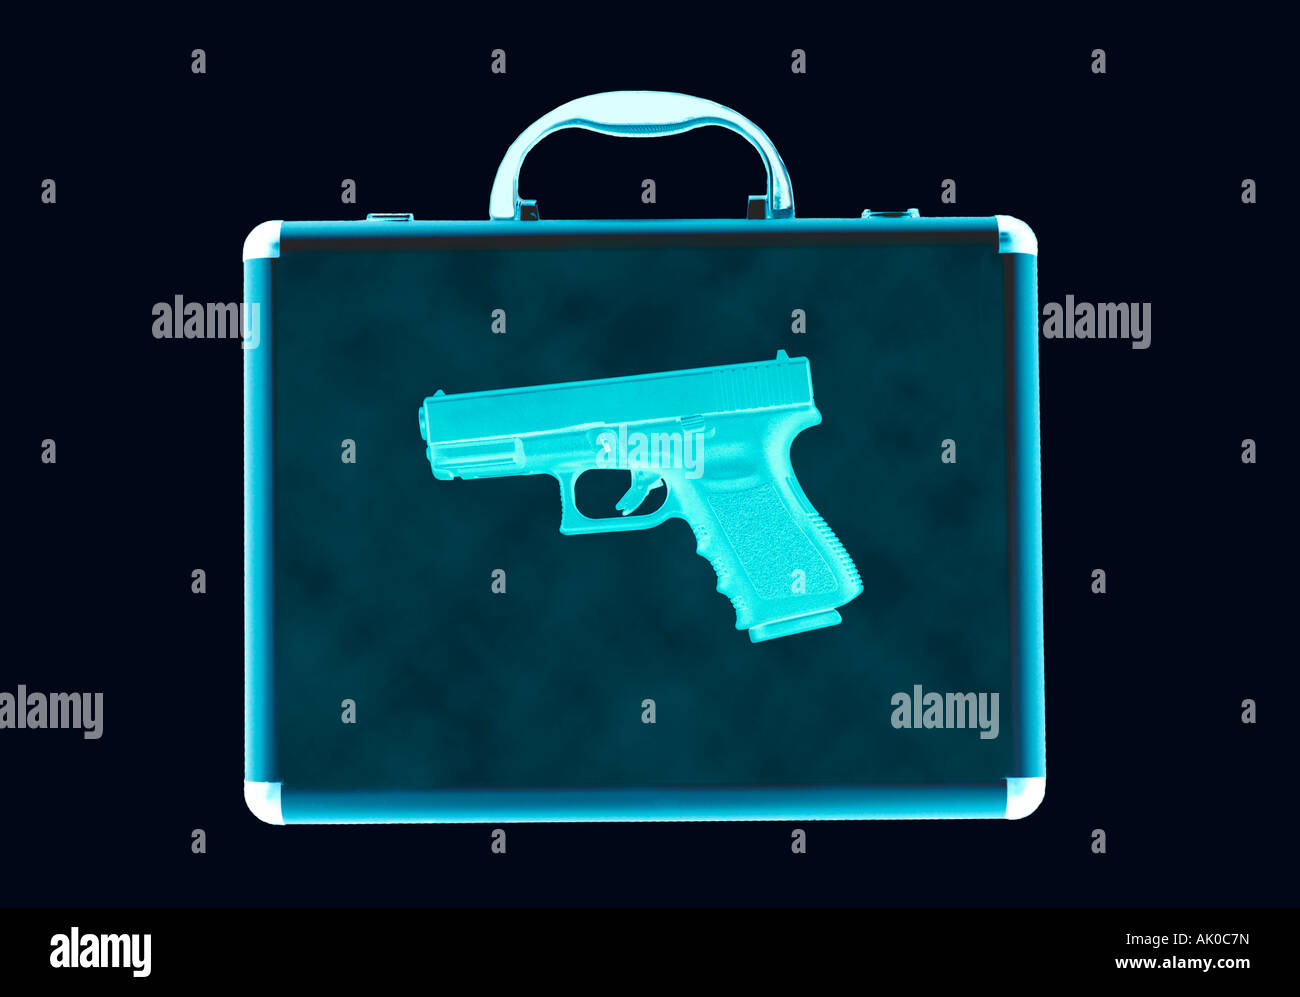gun: (409, 337, 888, 653)
